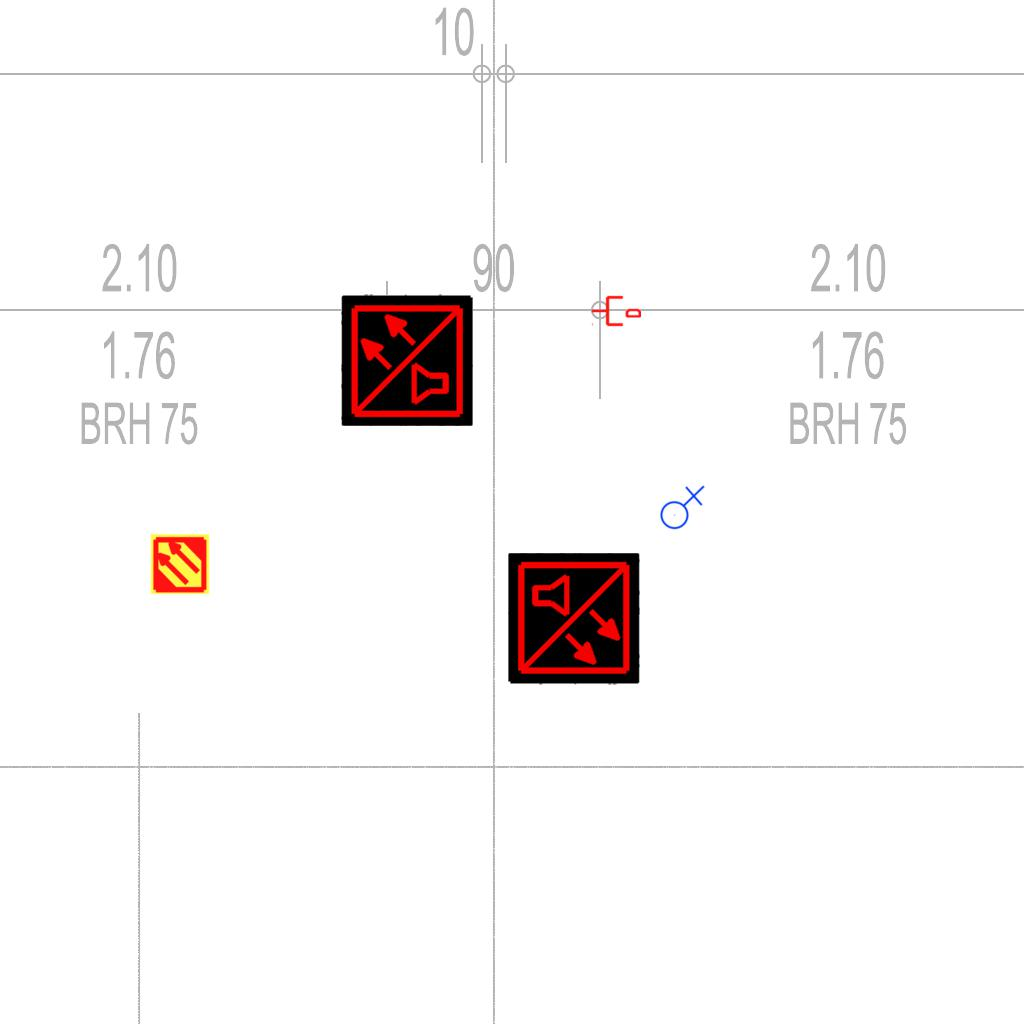ASR_Ansaugrauchmelder: (149, 533, 211, 595)
Datenanschluss_einfach: (591, 294, 641, 328)
Elektroanschluss_allgemein_230V_Geraeteanschlussdose_230V: (656, 483, 705, 530)
OKW_Multisensormelder_(Kombination_optischer_Rauch-Kahlenmonoxid_Waerme-Melder): (508, 553, 640, 685), (341, 294, 473, 426)
